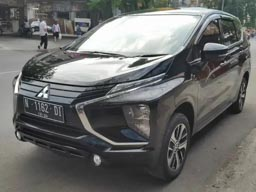plat: (23, 96, 64, 123)
